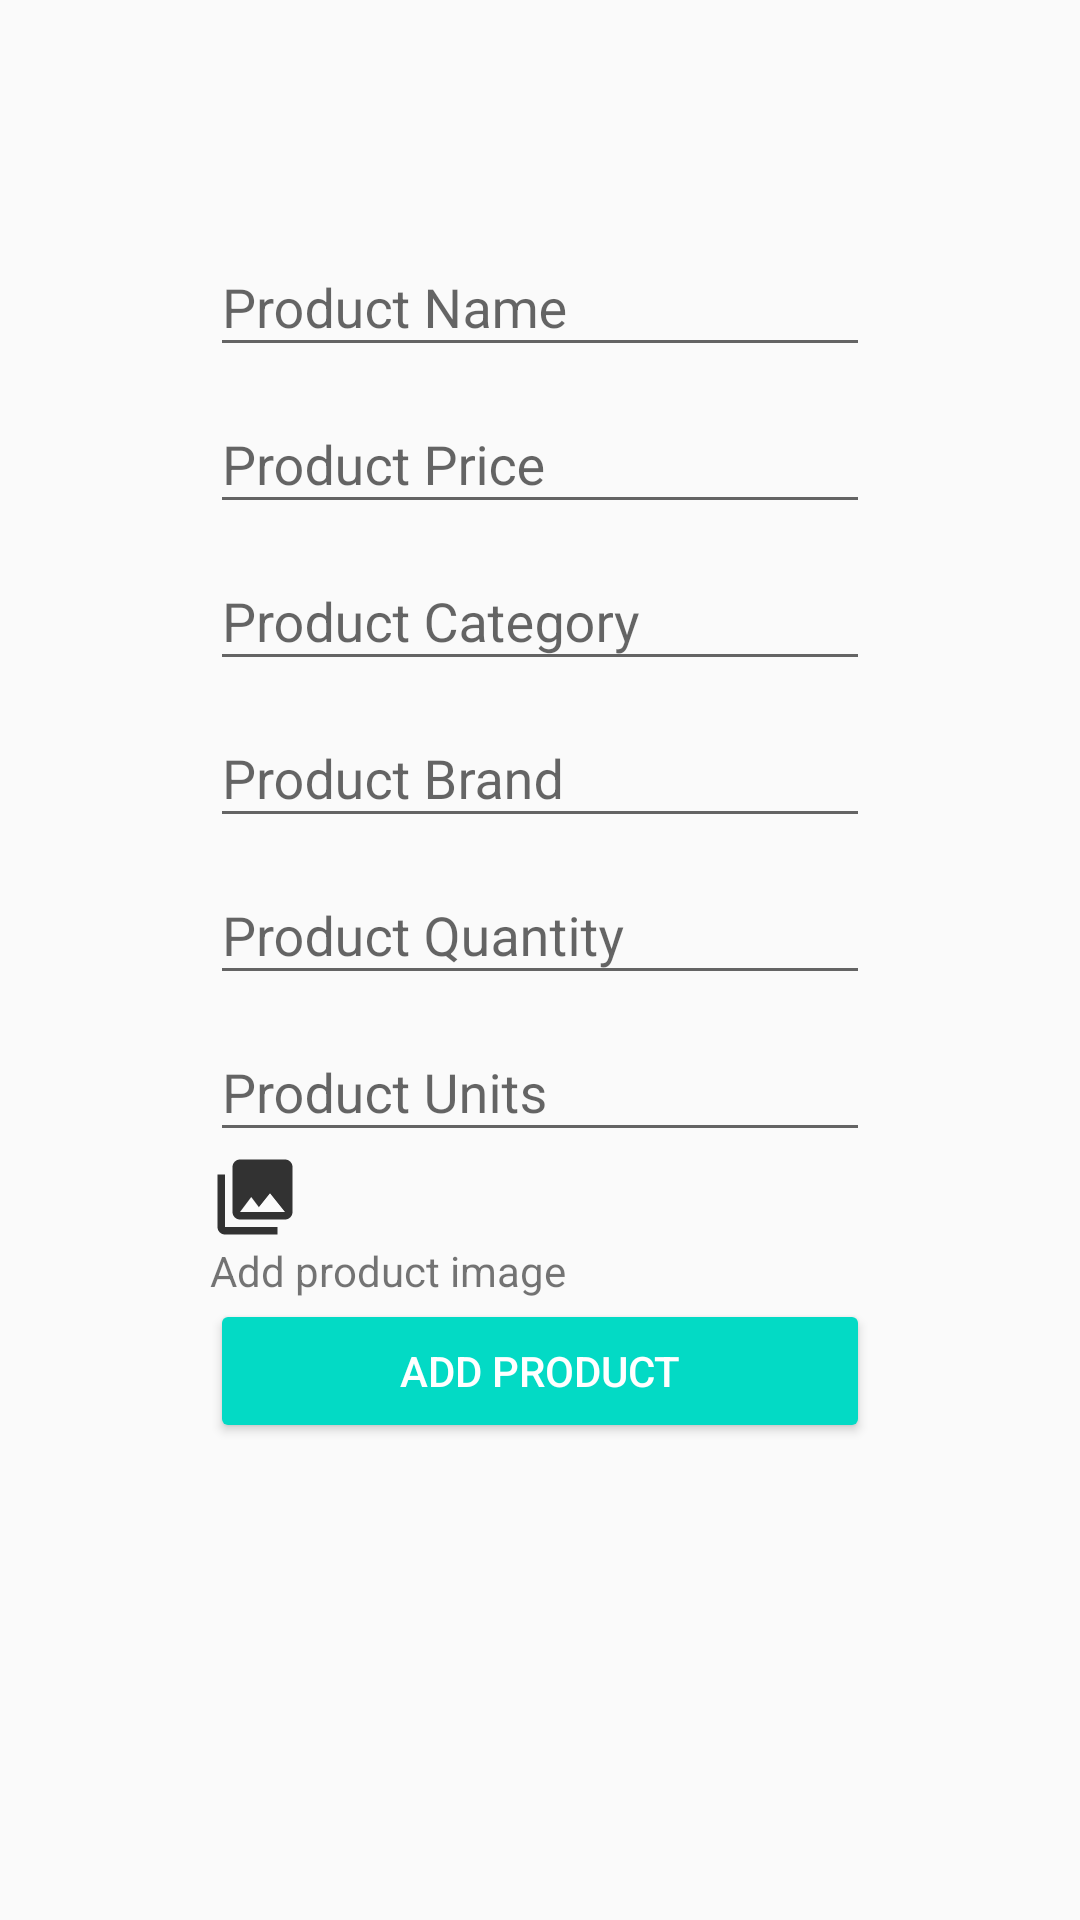

Locate icon controls on the screen. Image size 1080x1920, boxes as (left=x1, top=y1, right=x2, bottom=y2).
photo: (left=217, top=1159, right=293, bottom=1235)
